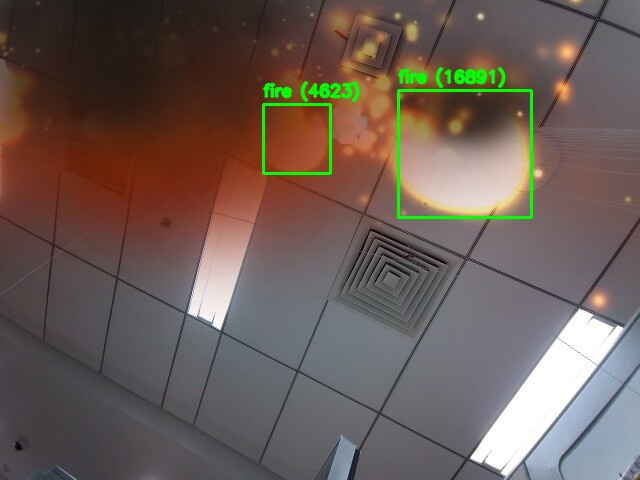fire: (398, 90, 531, 217), (263, 104, 330, 173)
